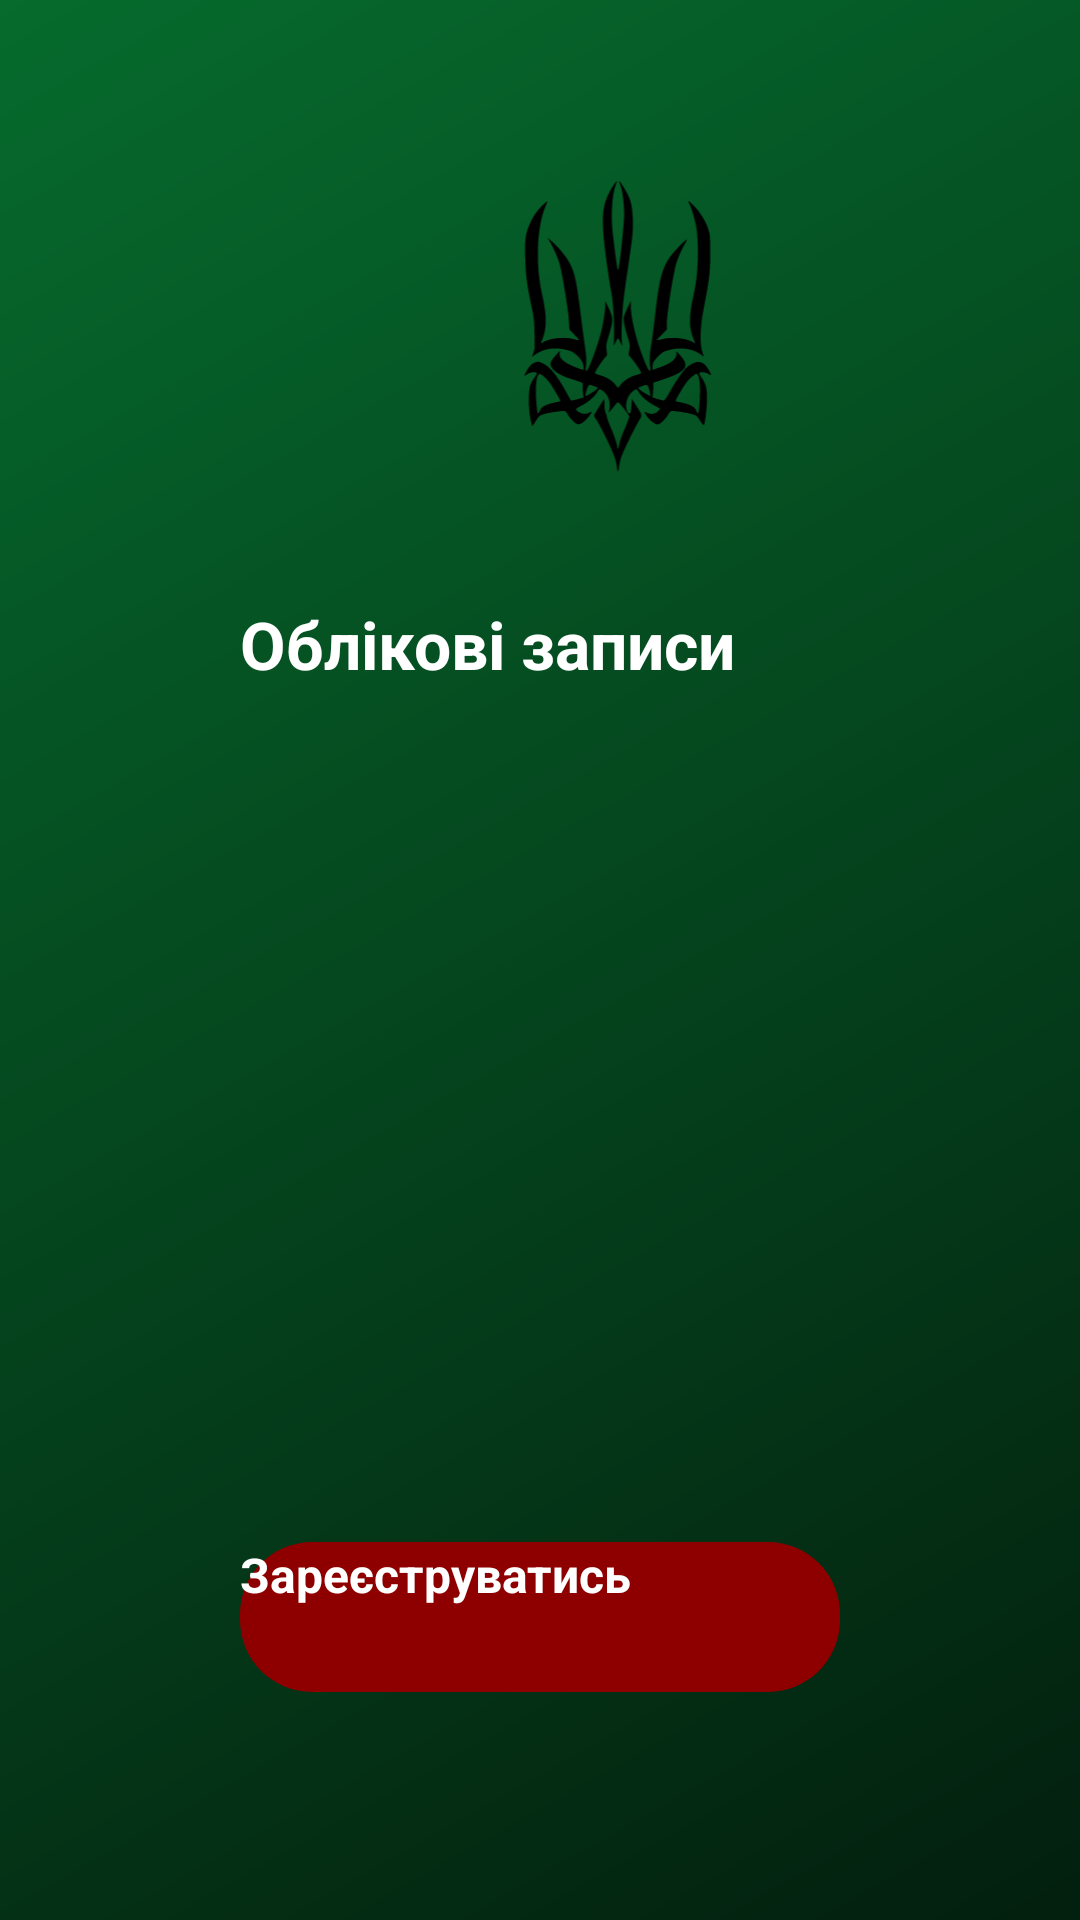

Point at icon controls on the screen. Image size 1080*1920, points as (x,y).
trident: (617,326)
